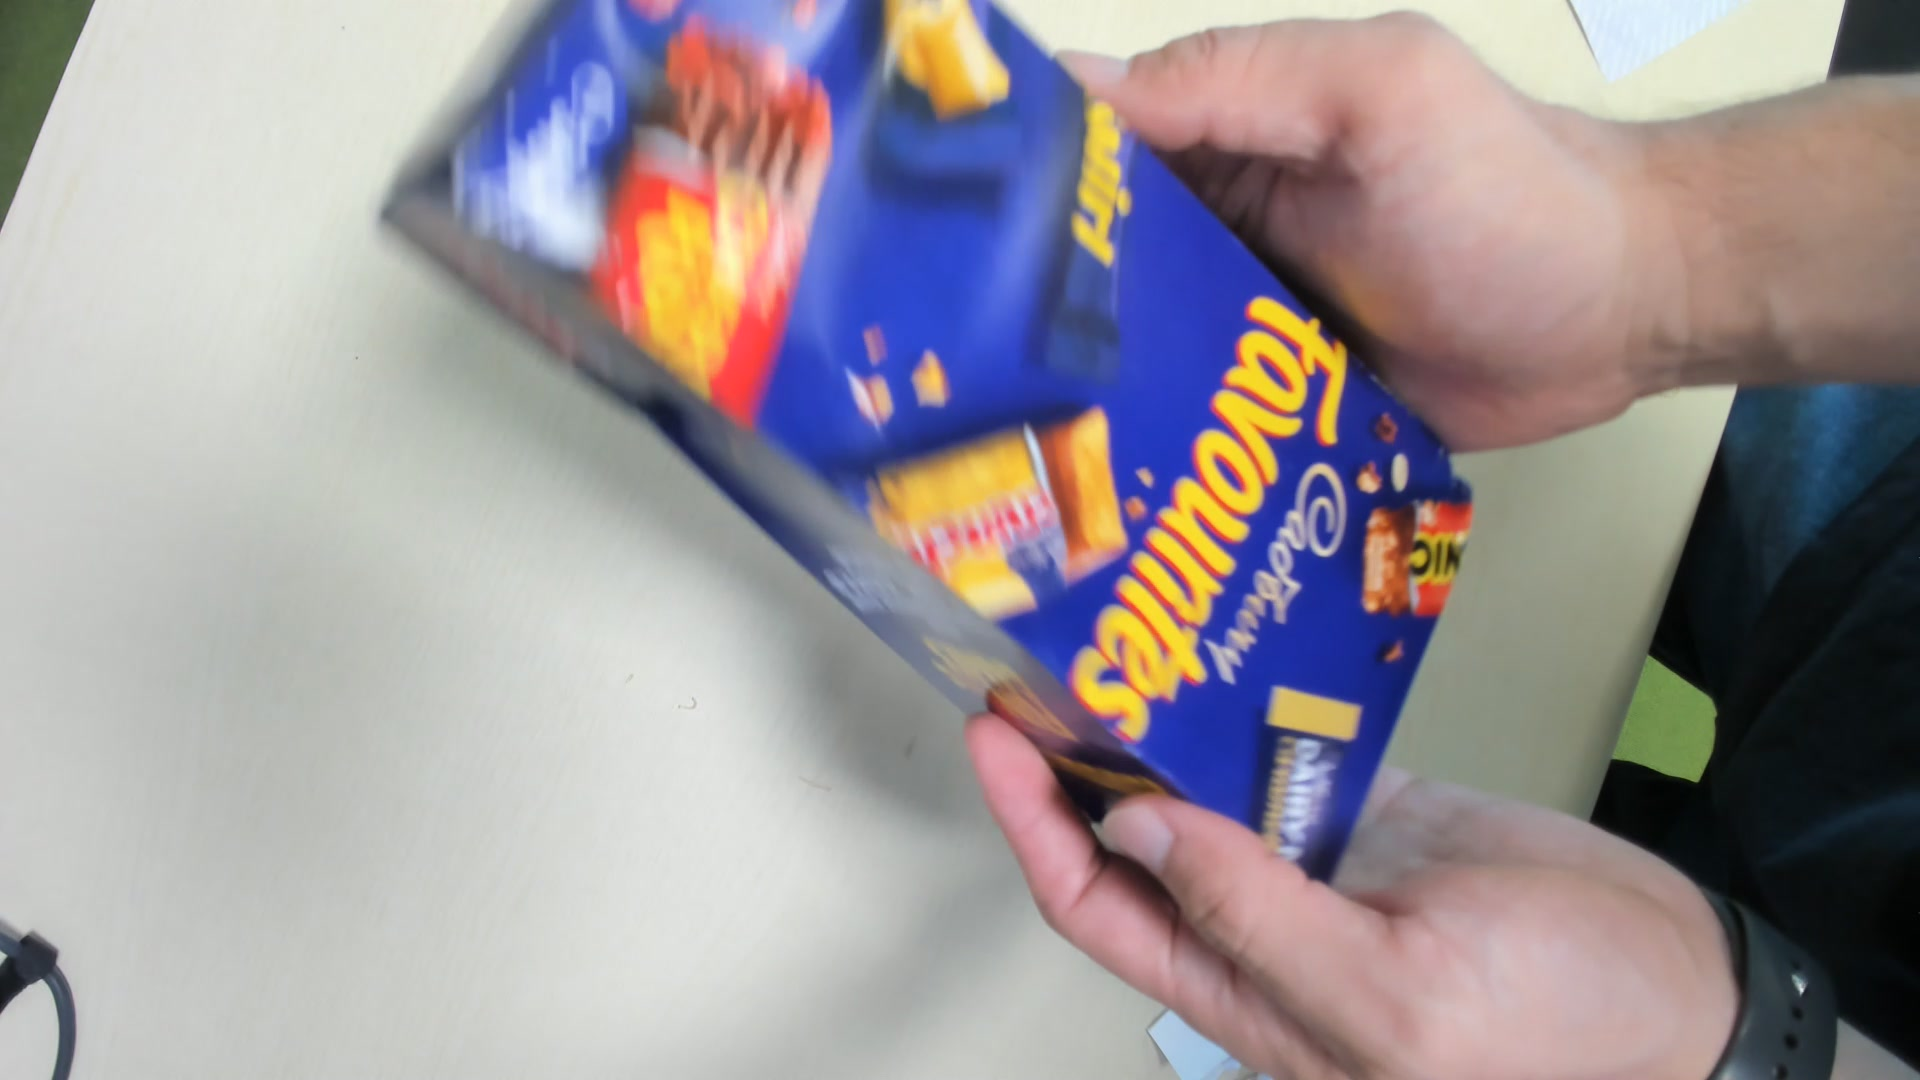SweetsChocolatesOthers_300-399g_NonHalal_Nonhealthy: (375, 3, 1470, 894)
